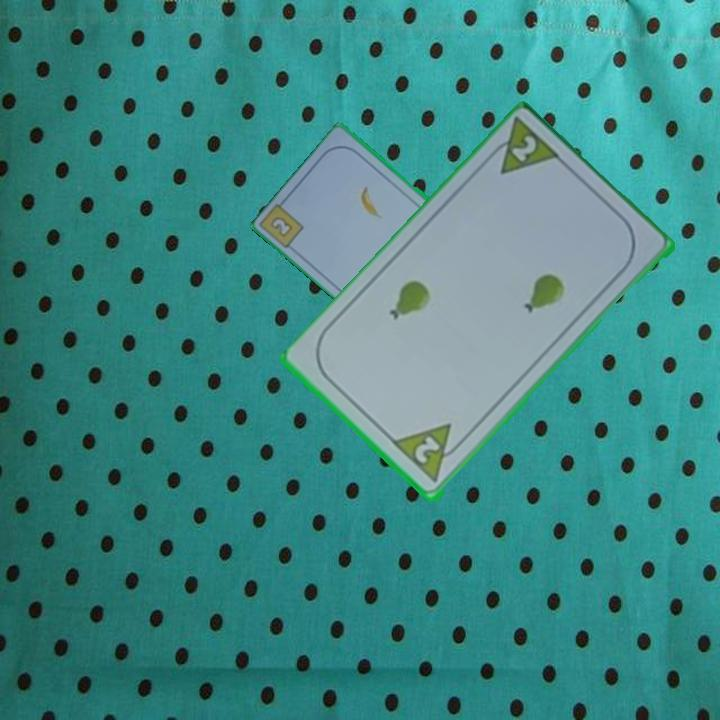2b: (267, 213, 296, 240)
2p: (410, 433, 444, 467), (507, 132, 540, 166)
